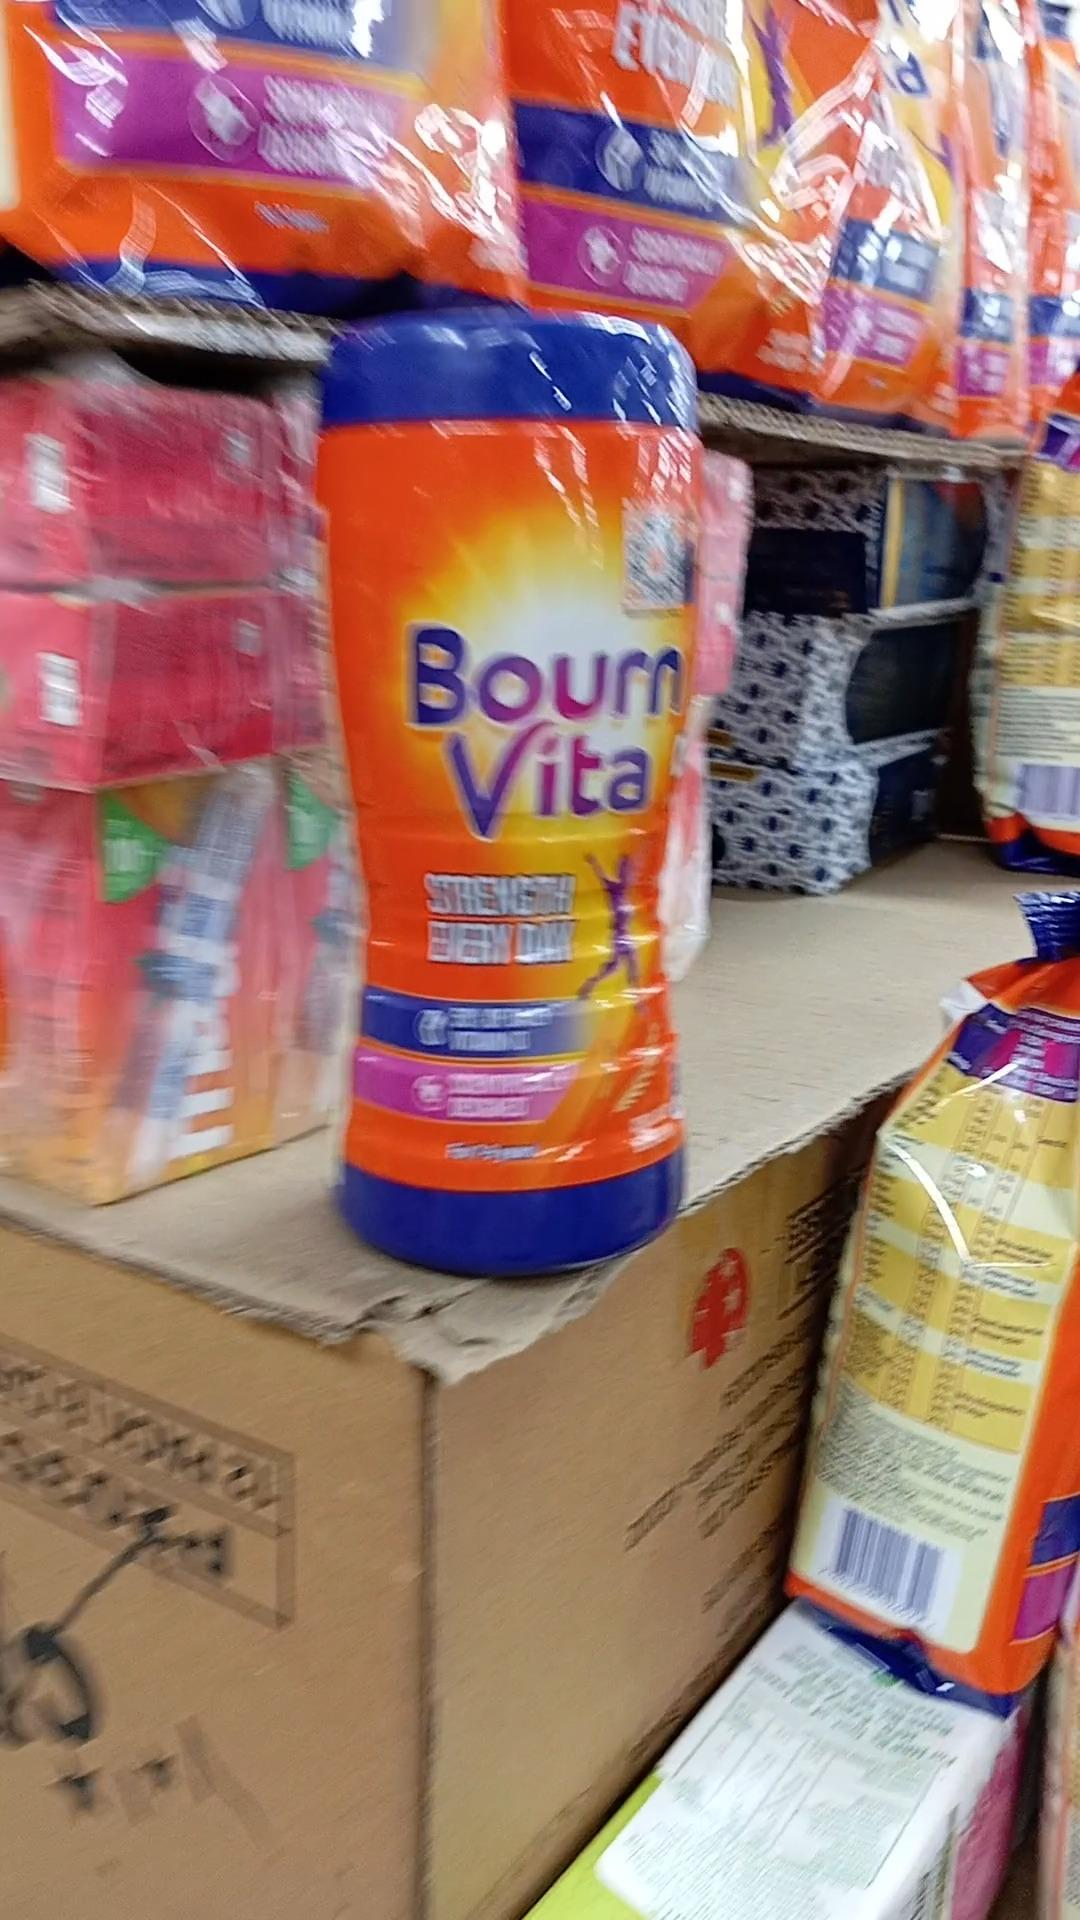BOURN_VITA_200_G_JAR: (326, 319, 683, 1262)
